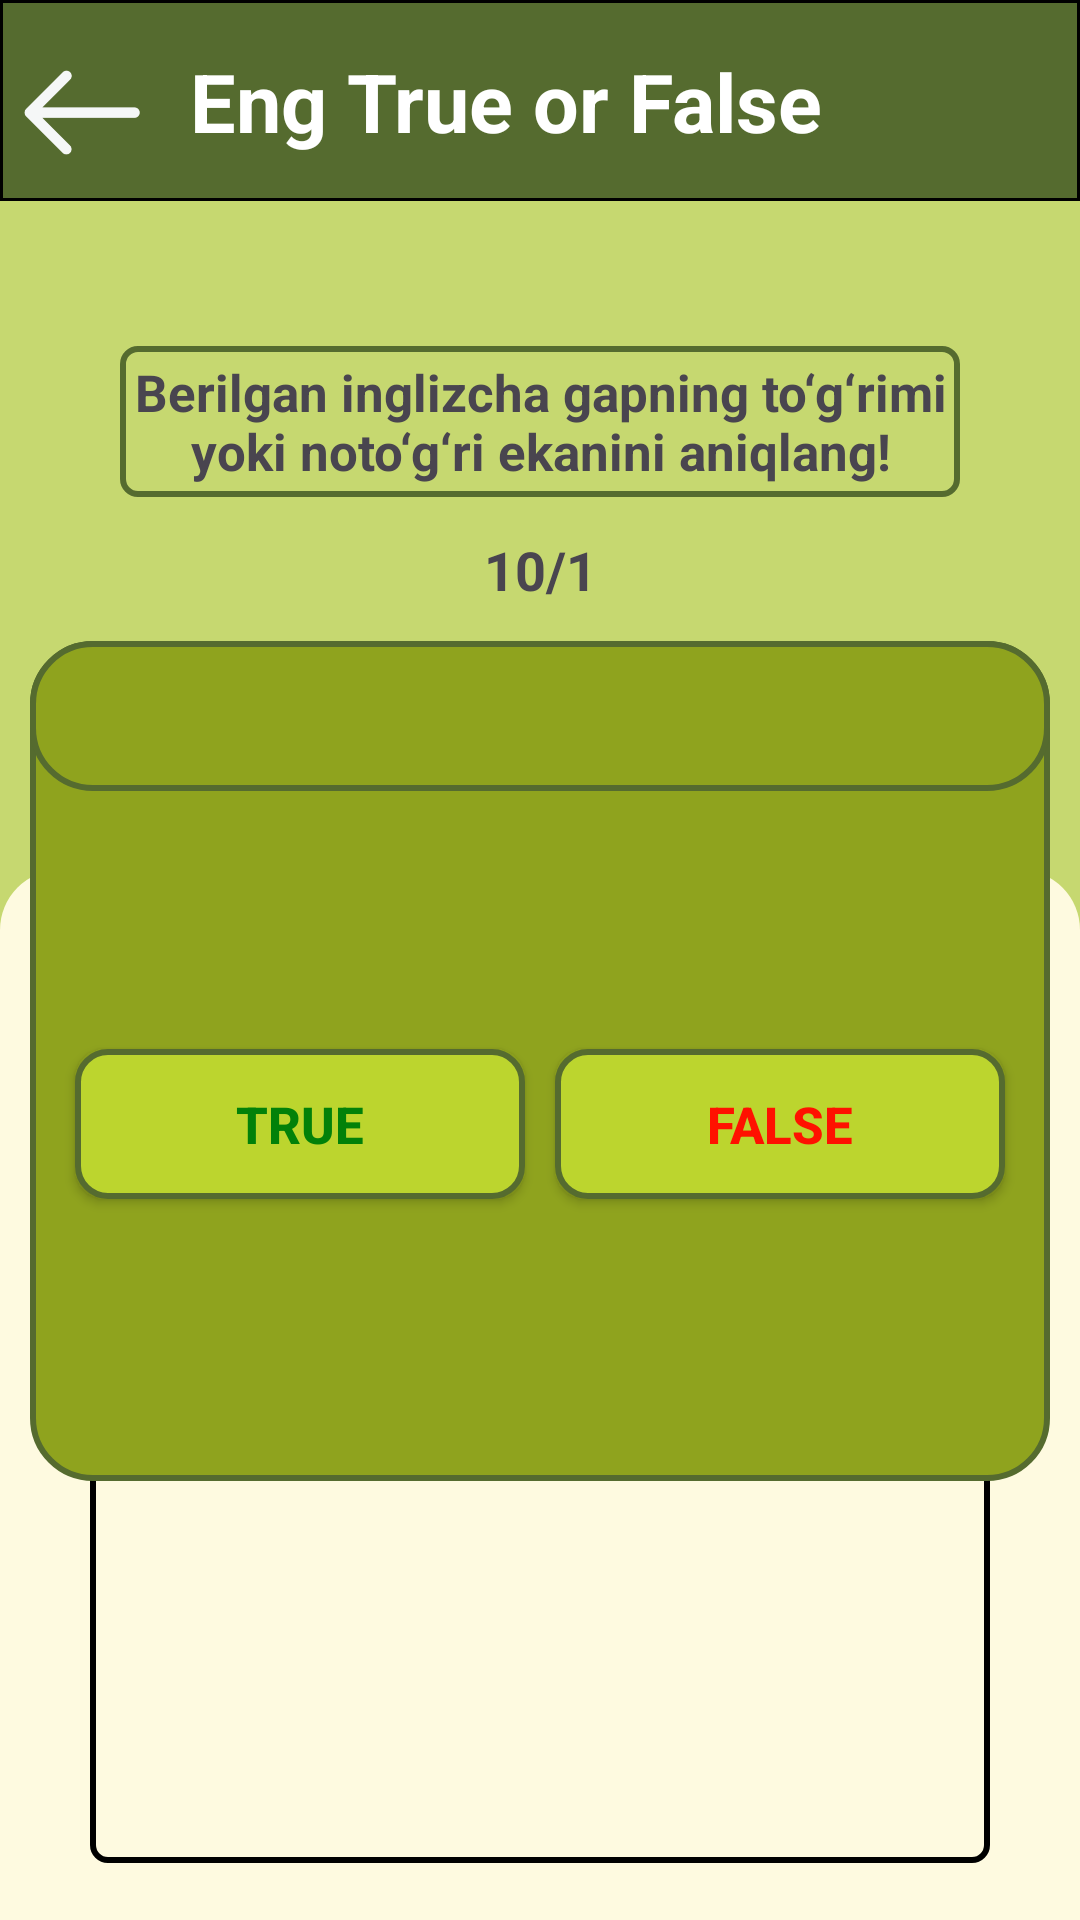

Screen size 1080px×1920px. Icon name, then its box in pixels as box(x1, y1, x2, y2):
bacl: box(24, 70, 140, 155)
